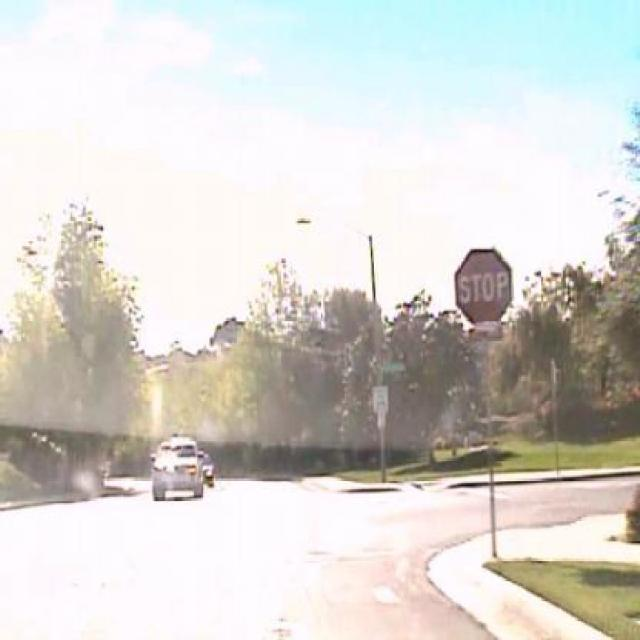Stop: (452, 247, 516, 325)
